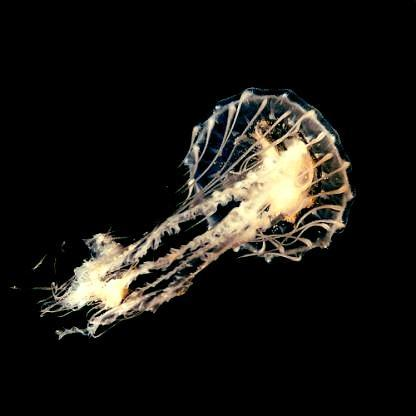Dressed: (37, 90, 351, 342)
